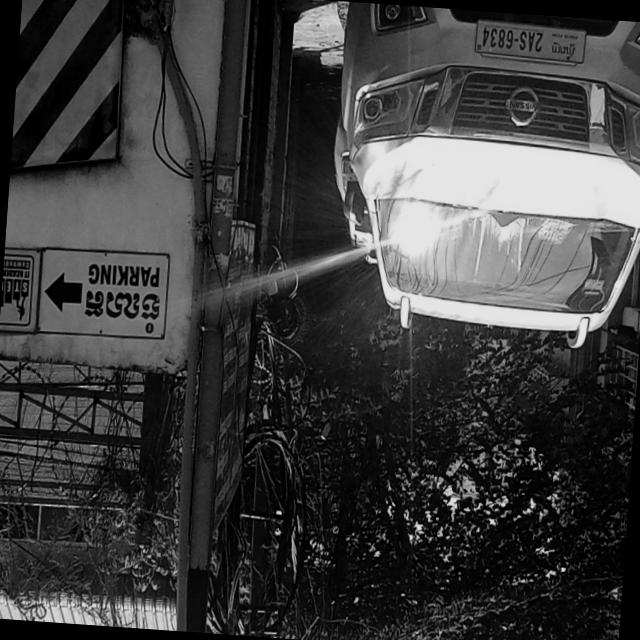Yolov11kh: (68, 282, 170, 342)
